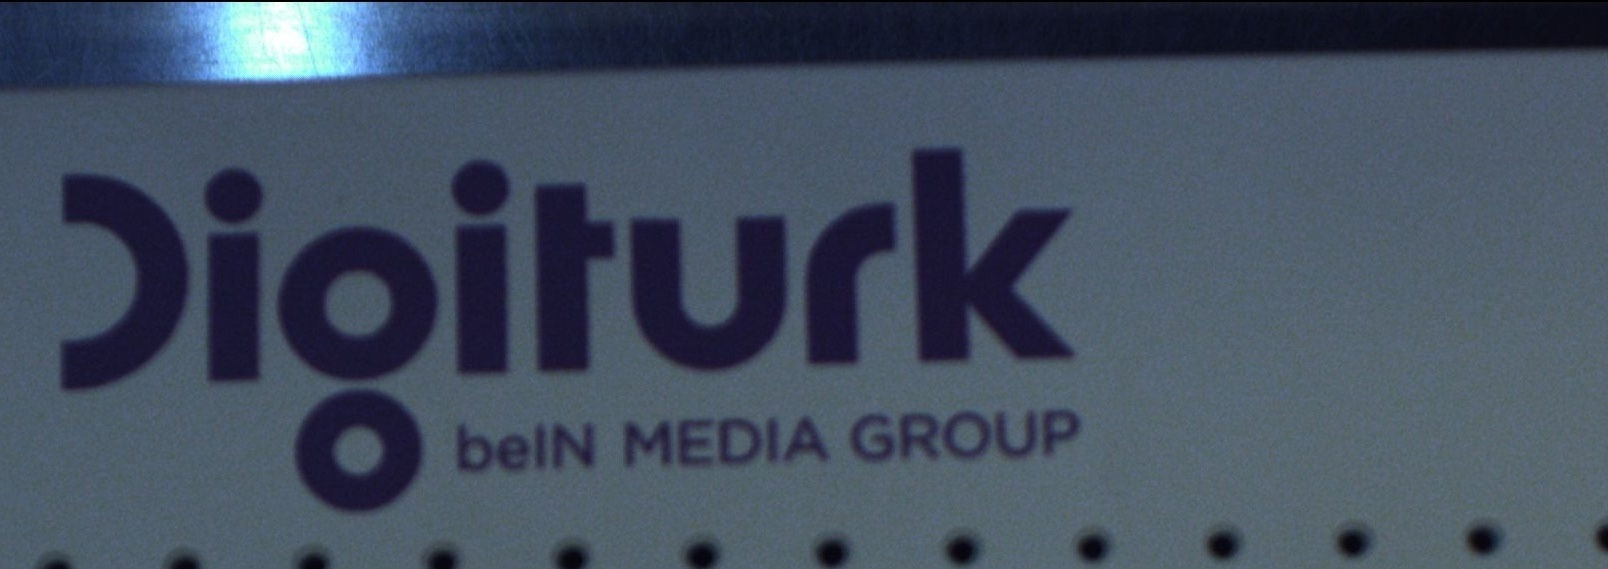BW_H168ADigiturk: (26, 123, 1109, 535)
